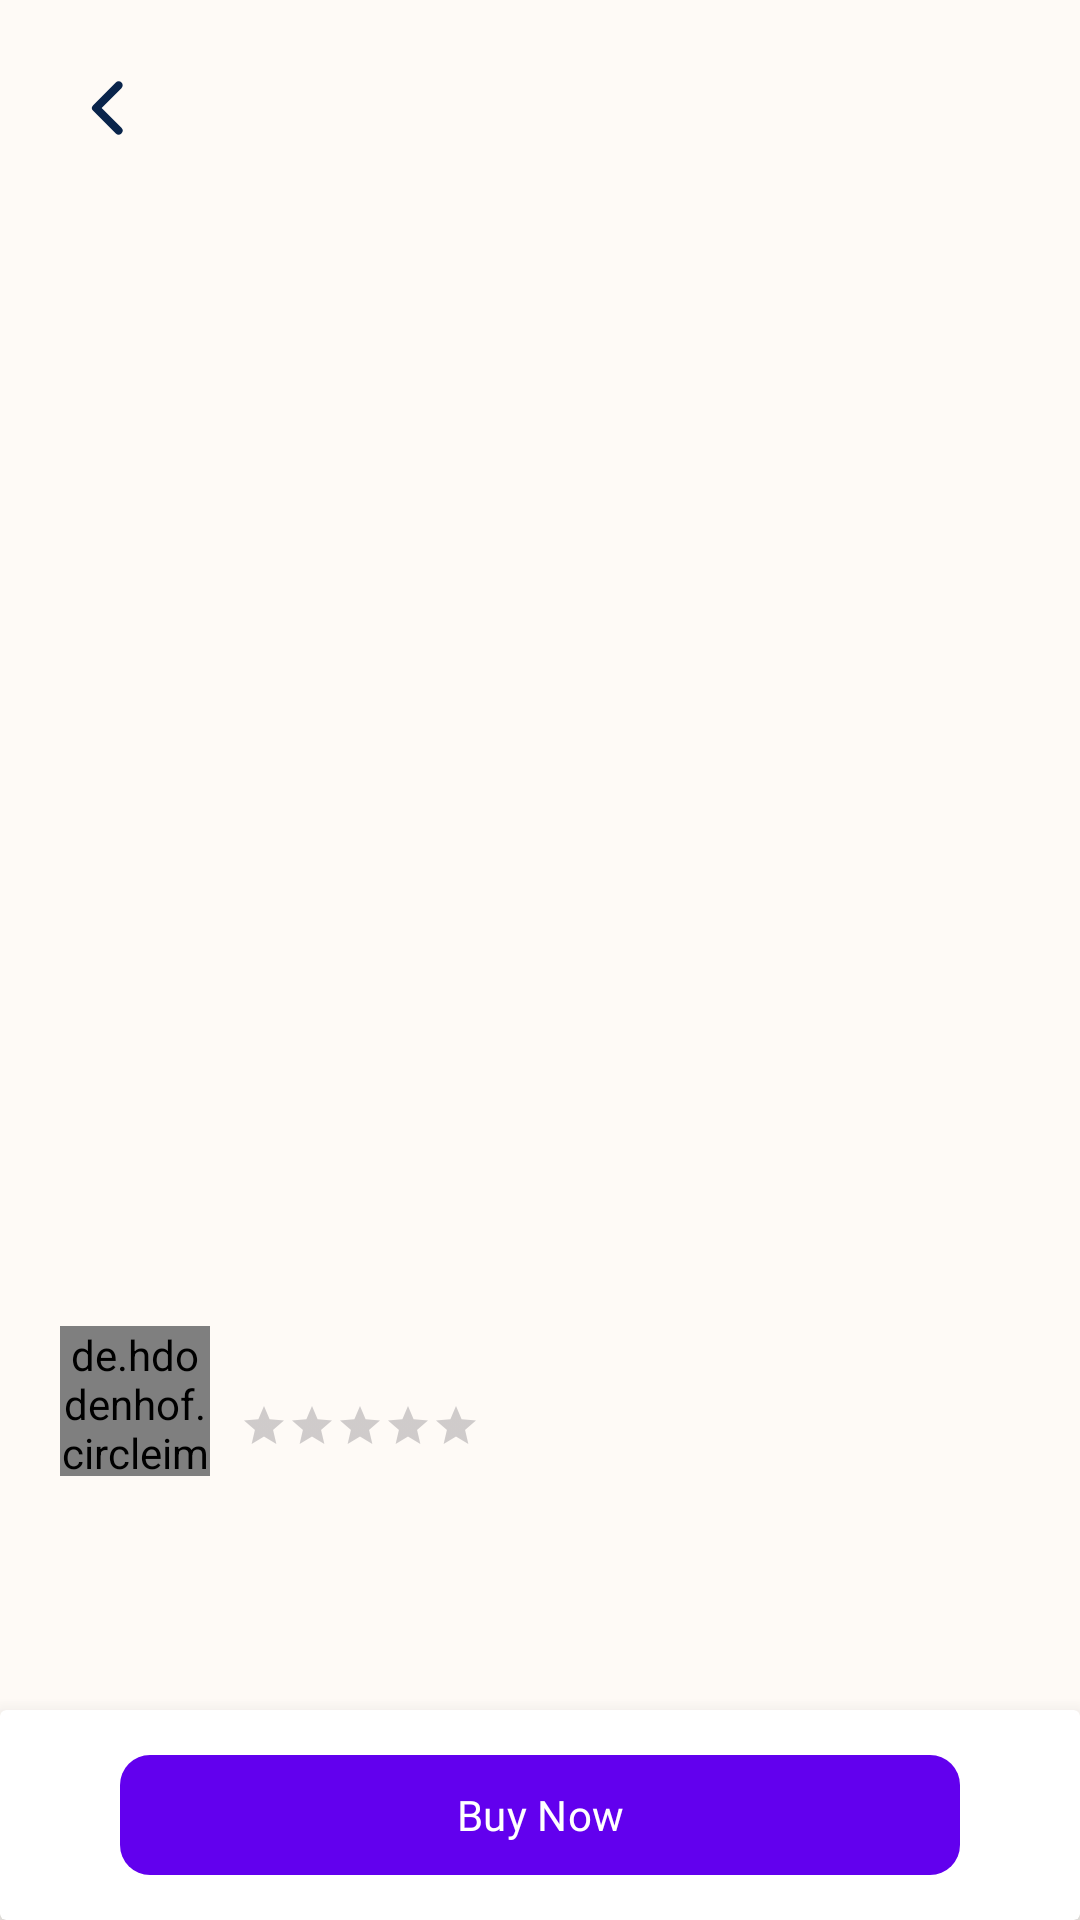

Icons on this 1080×1920 Android screen, each with the point to tap as point (x, y):
left line: point (107, 108)
